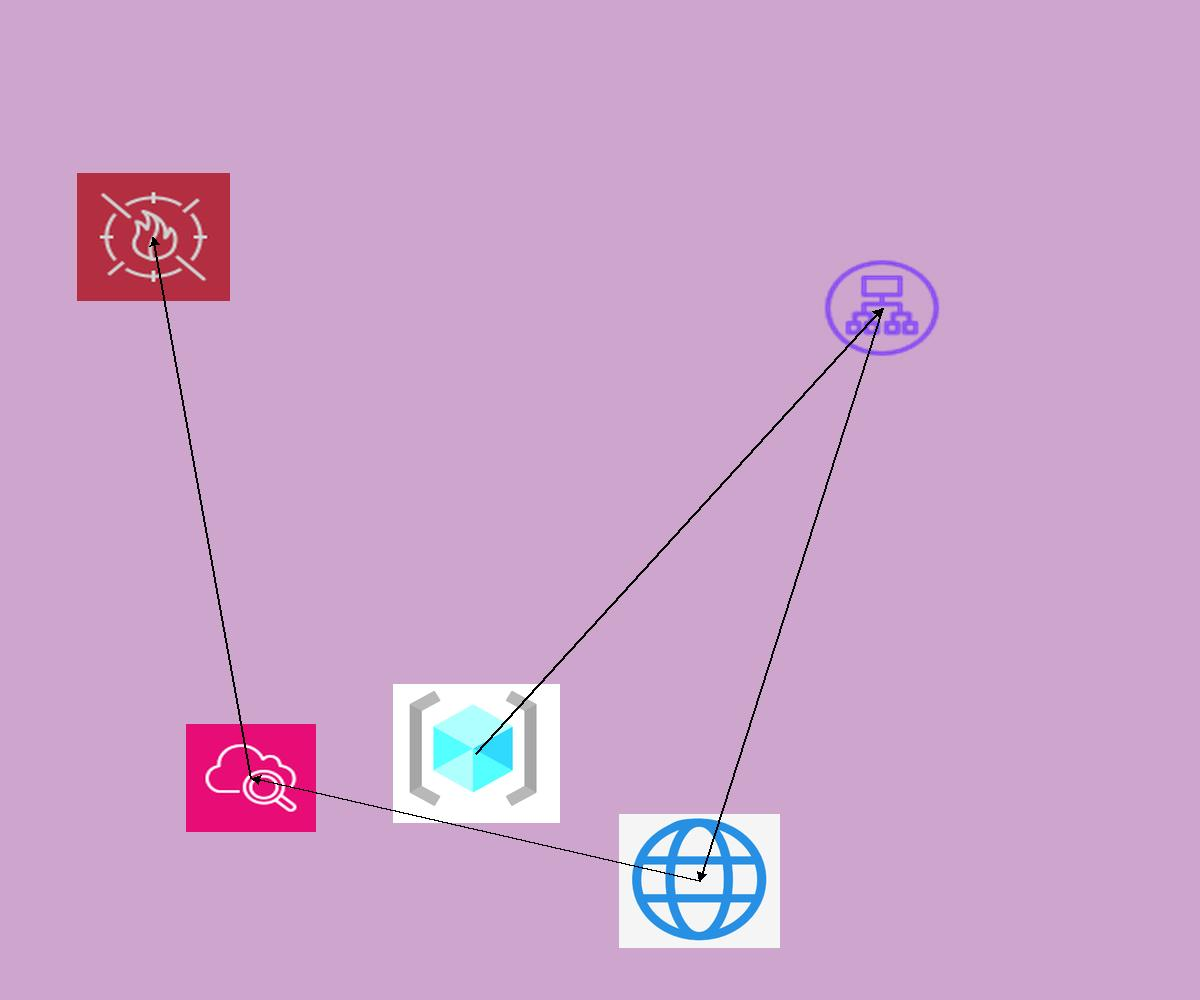AWS-CloudWatch: (186, 724, 316, 832)
AWS-Res_Elastic-Load-Balancing_Application-Load-Balancer: (820, 256, 944, 360)
AWS-WAF: (77, 173, 230, 301)
Azure_http: (619, 814, 780, 948)
Azure_resource_group: (393, 684, 560, 823)
